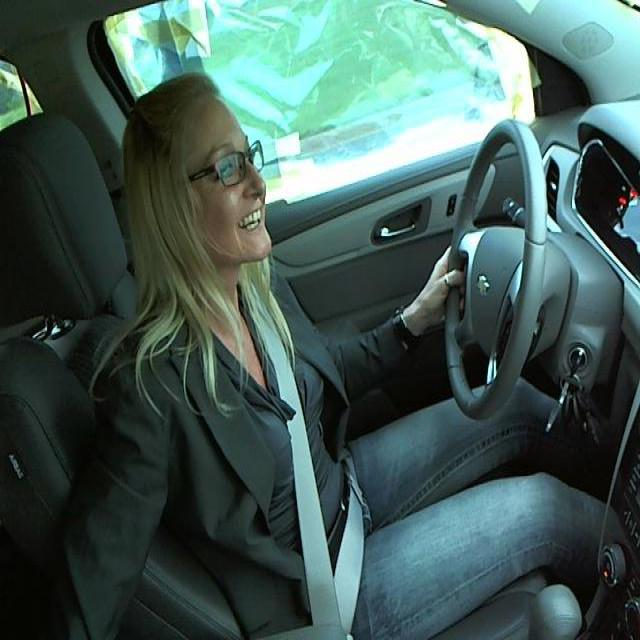seatbelt: (253, 310, 382, 622)
